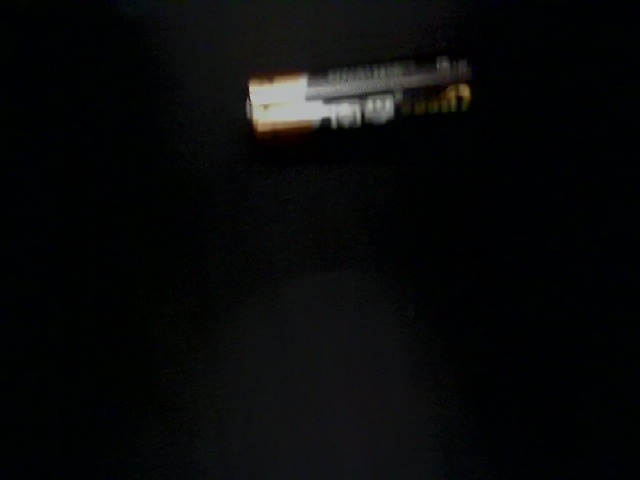QTLJ: (33, 247, 237, 456)
